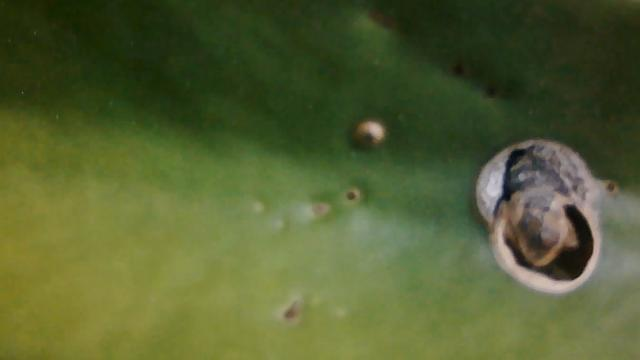stemcanker: (348, 116, 391, 155), (276, 298, 312, 328), (338, 187, 364, 207)
